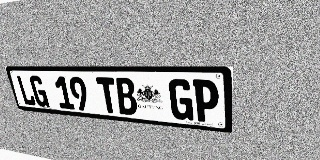1: (53, 76, 75, 110)
9: (68, 76, 90, 111)
B: (114, 78, 138, 116)
G: (168, 79, 194, 121), (28, 76, 50, 107)
L: (16, 75, 37, 106)
P: (193, 79, 219, 123)
T: (96, 77, 119, 114)
